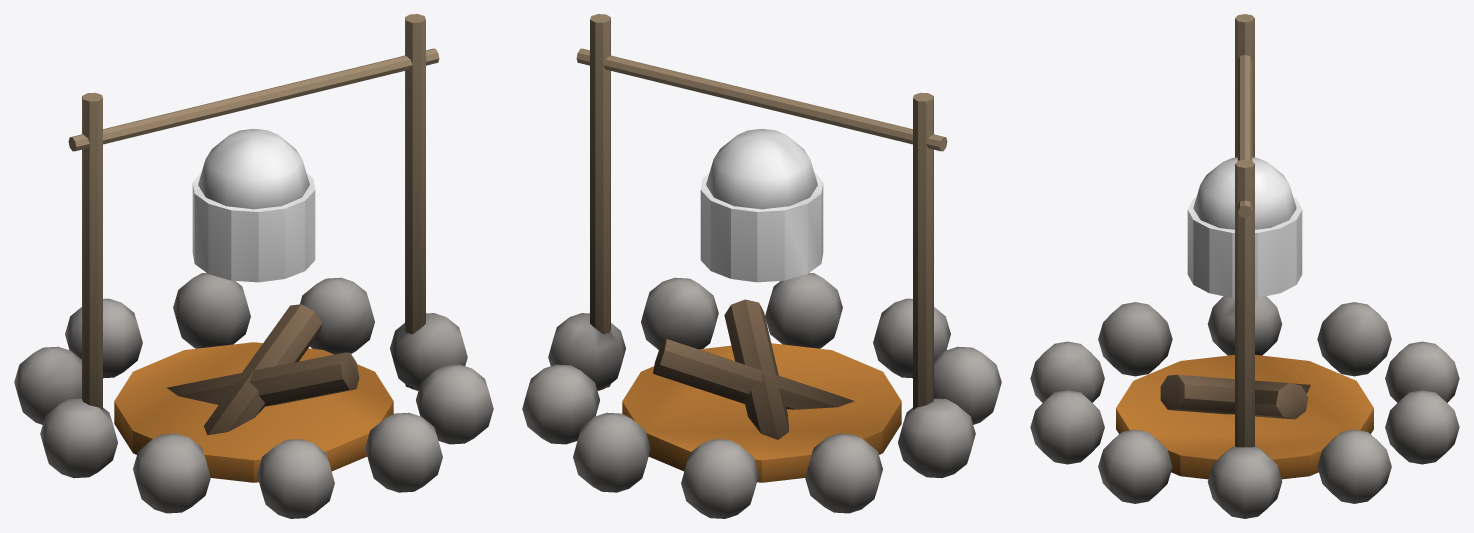
File: Base_Campfire_Cooker.fbx
3 views of the same model, side by side, from view 1: azimuth 30°, elevation 25°; view 2: azimuth 150°, elevation 25°; view 3: azimuth 270°, elevation 25° (orthographic). The views are drawn at different scales.
Parts seen in each view (by area): view 1: Base_Campfire_Cooker; view 2: Base_Campfire_Cooker; view 3: Base_Campfire_Cooker.
Part boxes in pixels (box(x1,y1,x2,y2)): Base_Campfire_Cooker: box(14, 14, 493, 518); Base_Campfire_Cooker: box(522, 14, 1001, 518); Base_Campfire_Cooker: box(1030, 14, 1459, 518).
Bounding box in the file's own units: 1.56 × 1.36 × 1.5.
